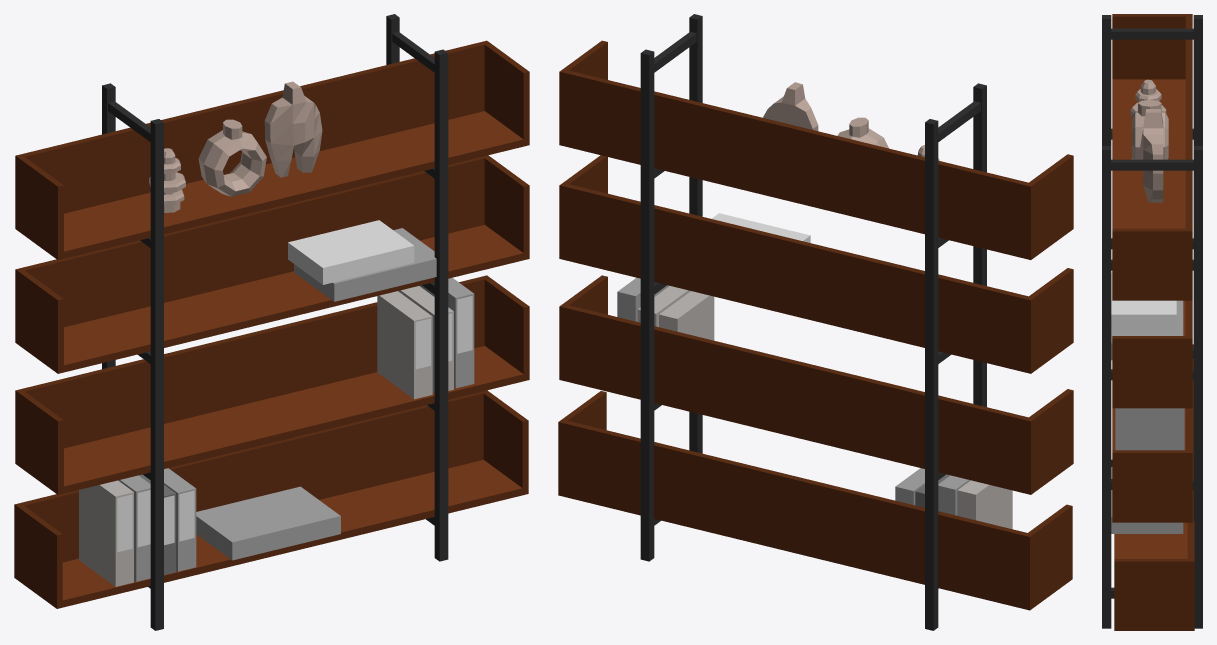
The model's file is showcase_0517.fbx.
3 views of the same model, side by side, from view 1: azimuth 30°, elevation 25°; view 2: azimuth 150°, elevation 25°; view 3: azimuth 270°, elevation 25° (orthographic). The views are drawn at different scales.
Parts seen in each view (by area): view 1: Box011; view 2: Box011; view 3: Box011.
Boxes of the visible parts, bbox=[...] form: Box011: bbox=[14, 14, 529, 630]; Box011: bbox=[558, 14, 1073, 630]; Box011: bbox=[1102, 14, 1202, 630].
Size of the model in its own units: 273 by 280 by 53.58.
1 material, 1 textured.
